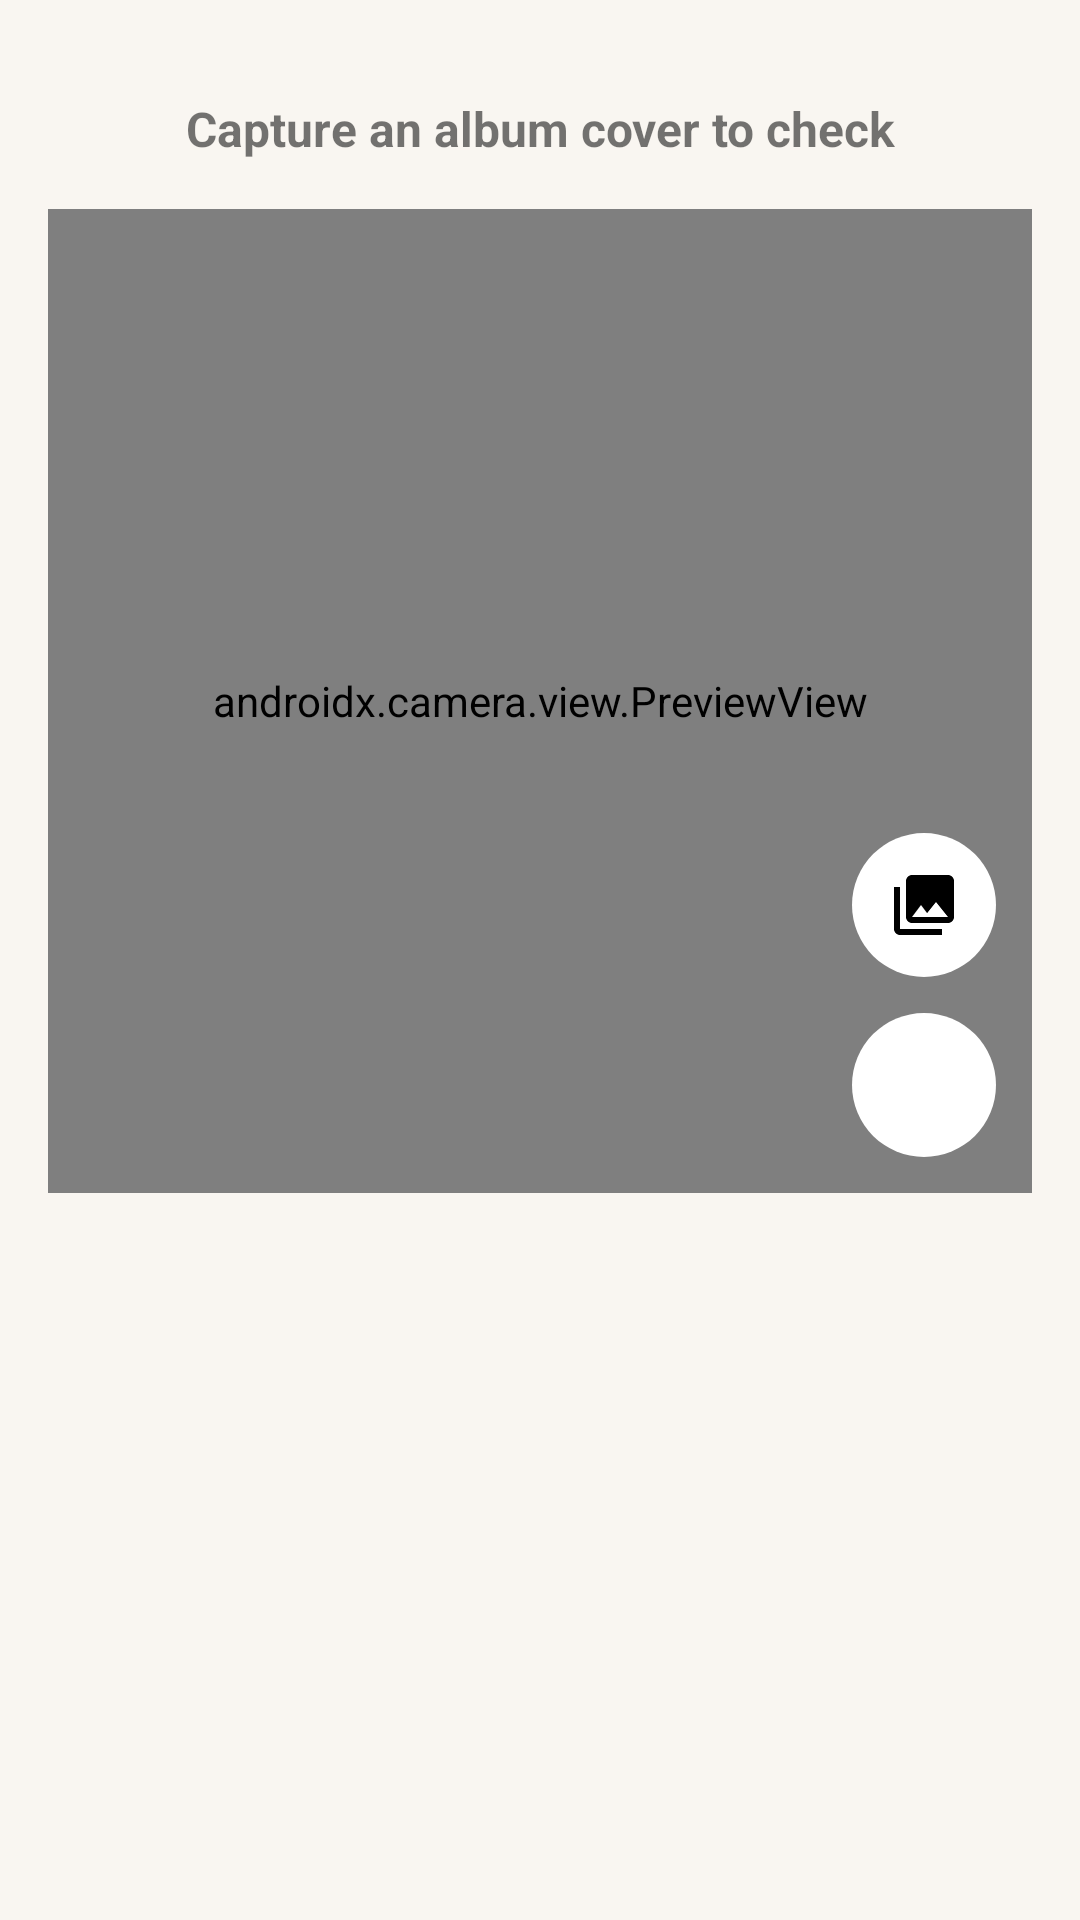

Named icons in this screenshot (1080×1920) and their centers, [x,y]:
gallery: [924,905]
